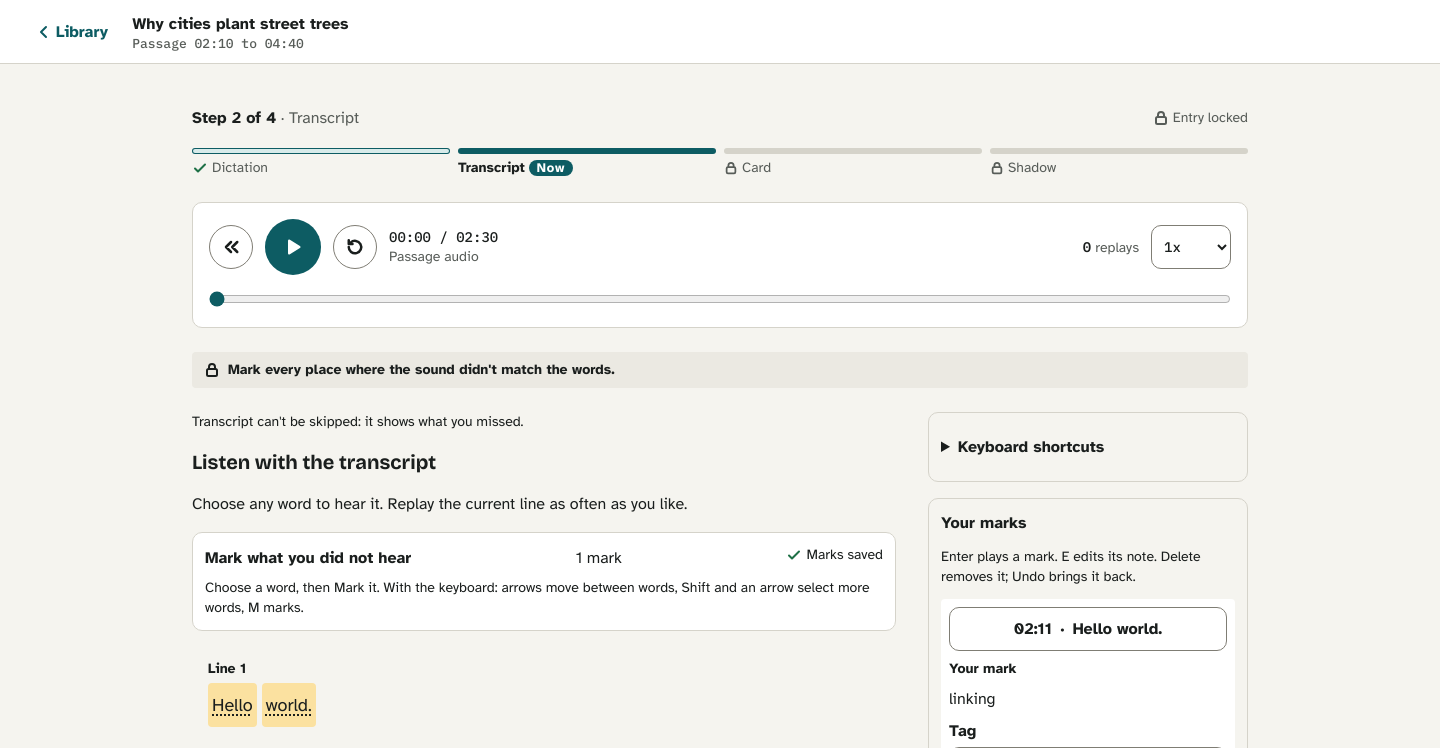
it: saved_marks_come_back_after_a_reload
# Choosing a marked word selects its mark and opens its note.
Click the button "world.".
click(289, 705)  # box [262,683,316,727]
(page scrolled)
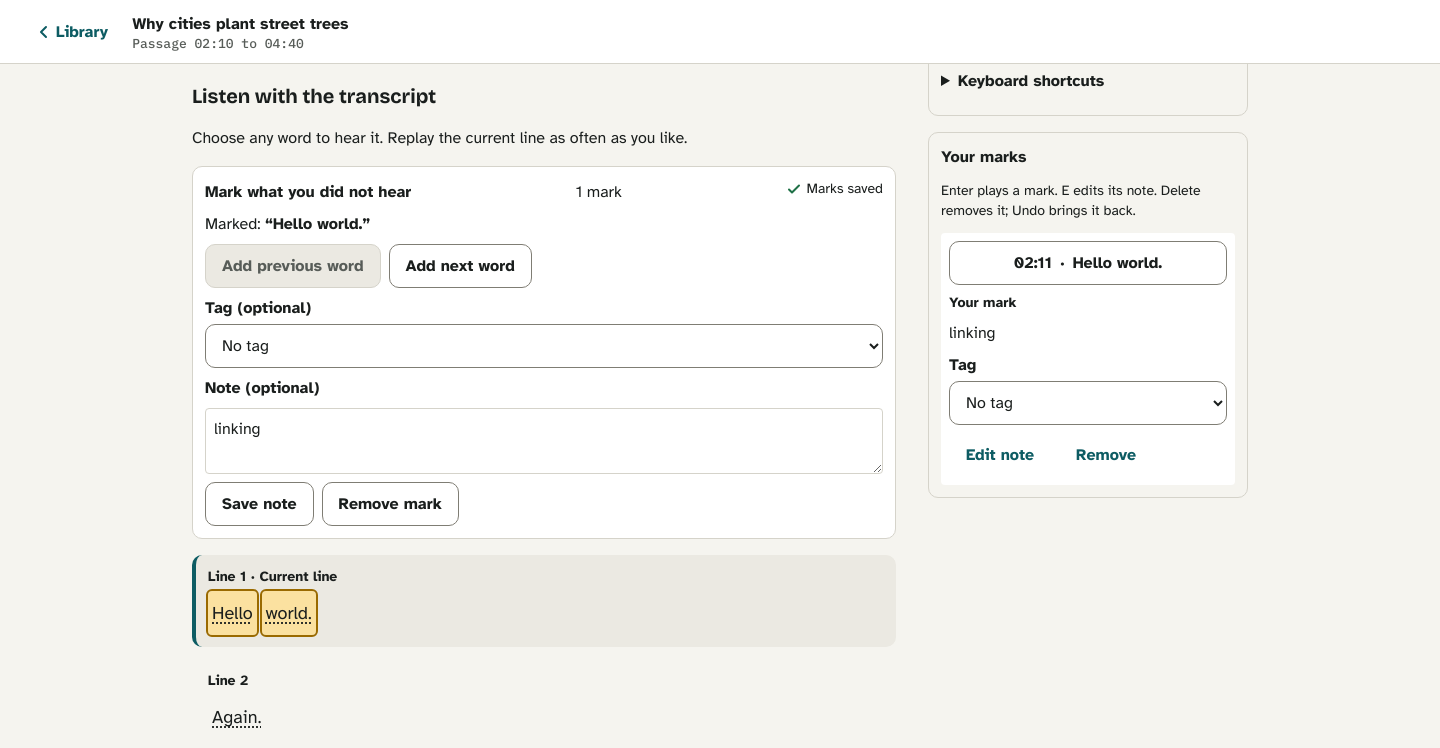
Check: the text "“Hello world.”" is shown, box [265,214,370,234]
Check: the text box labelled "Note (optional)" holds "linking", box [205,408,883,474]
